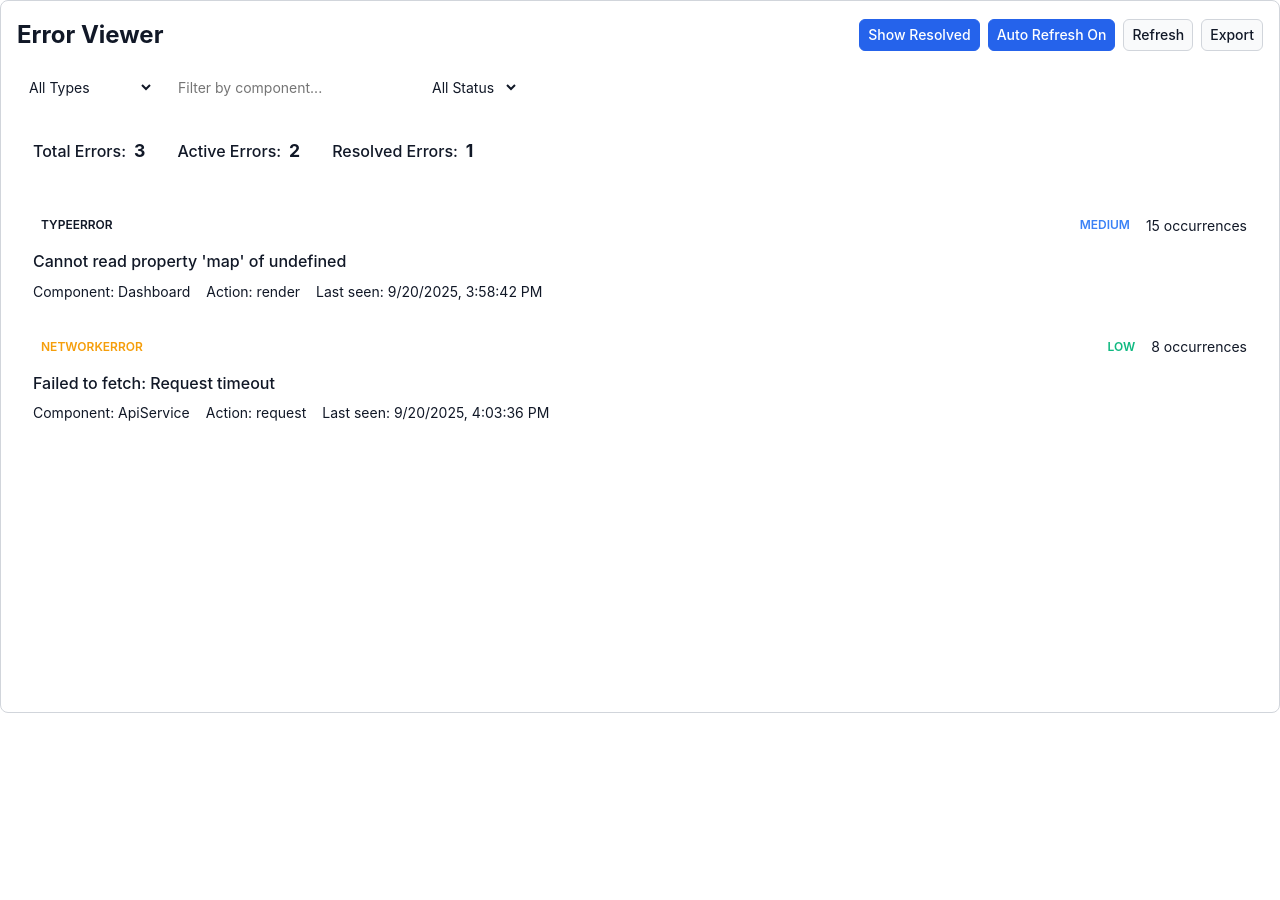
Test: ErrorViewer Component › renders error items after loading
Expected: the heading "Error Viewer" is shown, [17,17,163,53]
Expected: the text "Cannot read property 'map' of undefined" is shown, [33,251,346,271]
Note: Show resolved errors
Click the button "Show Resolved".
click(919, 35)  # box [859,19,980,51]
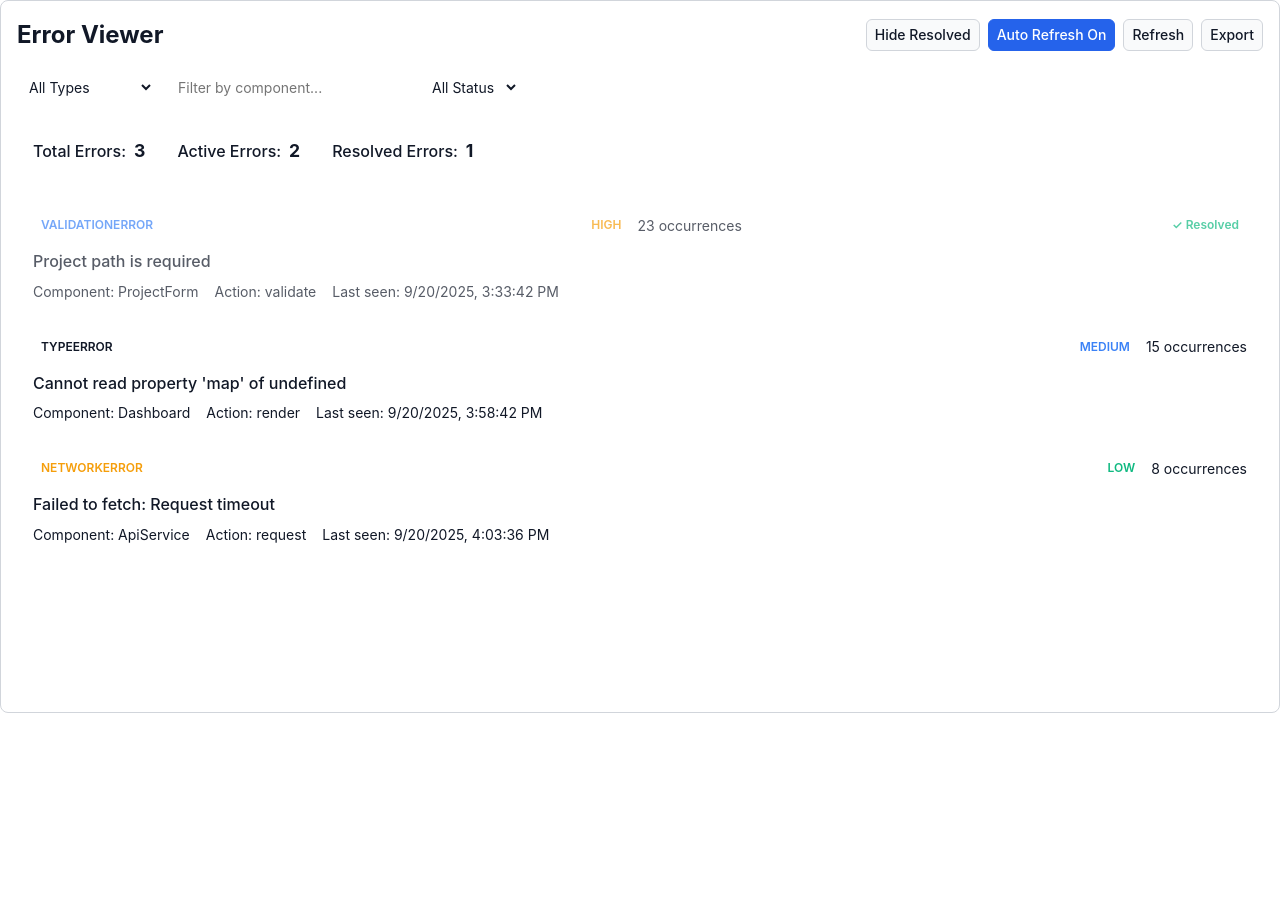
Expected: the text "Project path is required" is shown, [33,251,211,271]
